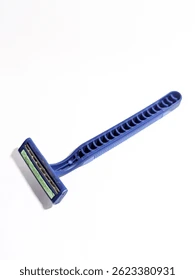non-toxic_waste: (160, 59, 195, 237)
